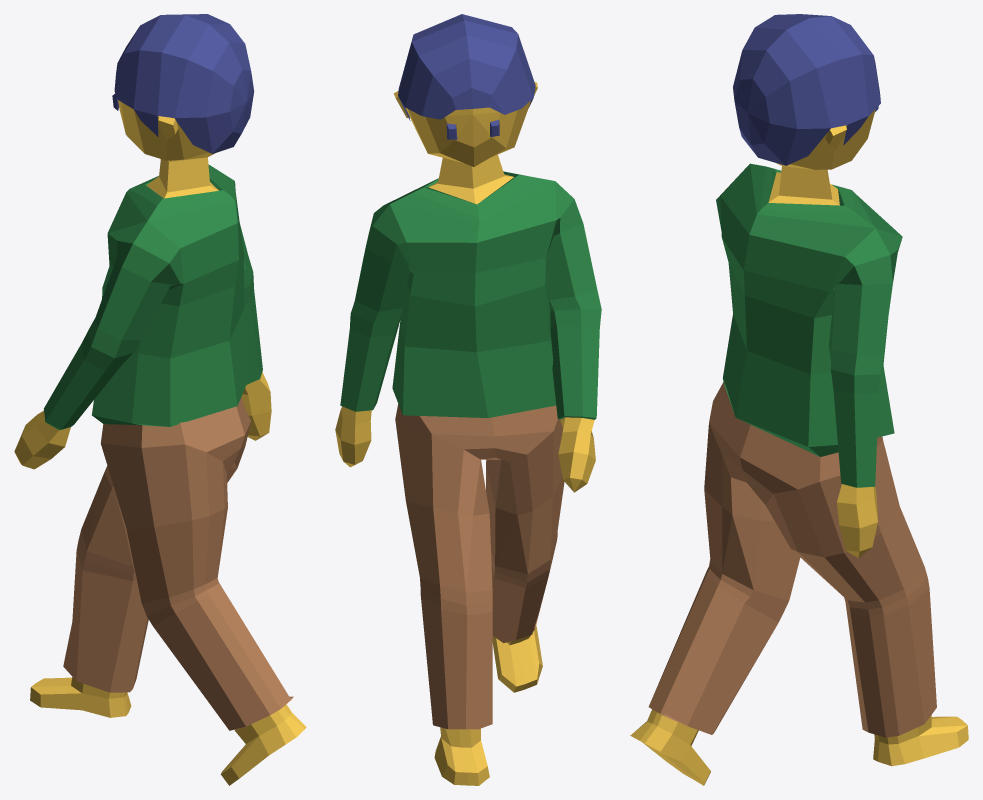
Rendered from 107_歩く(Man).glb.
3 renders of one model, left to right at view 1: azimuth 30°, elevation 25°; view 2: azimuth 150°, elevation 25°; view 3: azimuth 270°, elevation 25°, orthographic. The views are drawn at different scales.
Parts seen in each view (by area): view 1: 立方体032_2, 立方体032_3, 立方体032, 立方体032_1; view 2: 立方体032_3, 立方体032_2, 立方体032_1, 立方体032; view 3: 立方体032_2, 立方体032_3, 立方体032, 立方体032_1.
Part boxes in pixels (x1,y1,x2,y2): 立方体032_2: (63, 397, 293, 730); 立方体032_3: (44, 164, 262, 430); 立方体032: (112, 14, 254, 153); 立方体032_1: (14, 100, 306, 785); 立方体032_3: (340, 171, 601, 419); 立方体032_2: (395, 404, 564, 729); 立方体032_1: (335, 82, 595, 785); 立方体032: (398, 14, 535, 139); 立方体032_2: (648, 382, 936, 737); 立方体032_3: (716, 163, 902, 487); 立方体032: (733, 14, 880, 165); 立方体032_1: (630, 109, 968, 785).
Bounding box in the file's own units: 0.7554 × 2.06 × 0.8237.
